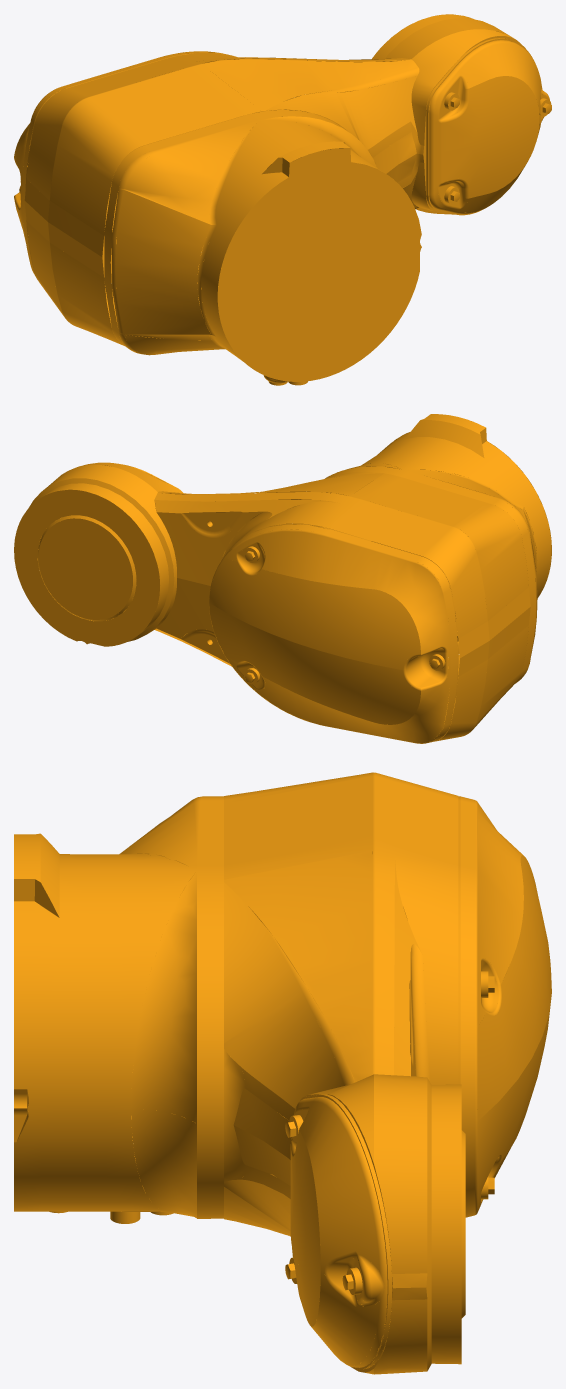
3 renders of one model, top to bottom at view 1: azimuth 30°, elevation 25°; view 2: azimuth 150°, elevation 25°; view 3: azimuth 270°, elevation 25°, orthographic. The views are drawn at different scales.
Parts seen in each view (by area): view 1: L1.IGS (×59); view 2: L1.IGS (×48); view 3: L1.IGS (×54).
Boxes of the visible parts, bbox=[...] form: L1.IGS (×59): bbox=[14, 16, 542, 381]; L1.IGS (×48): bbox=[14, 420, 551, 743]; L1.IGS (×54): bbox=[14, 776, 551, 1374].
Size of the model in its own units: 0.4245 by 0.197 by 0.2614.
